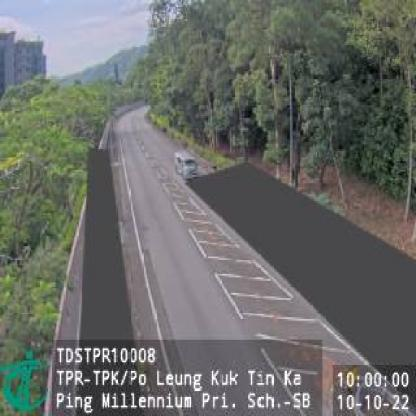Car: (173, 150, 199, 183)
